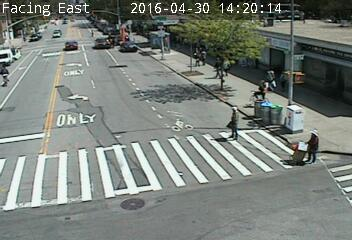neg: (169, 119, 204, 166), (58, 151, 86, 190), (76, 31, 103, 66), (123, 129, 150, 164), (81, 90, 107, 125), (132, 69, 157, 102), (233, 168, 255, 198)
pos: (219, 100, 251, 144), (299, 124, 329, 164), (1, 56, 28, 91), (267, 66, 285, 90), (253, 77, 268, 97)
